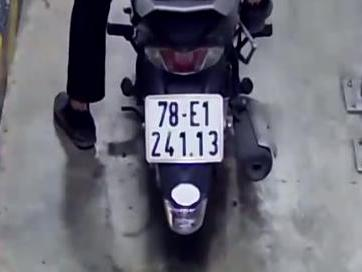num_plate: (145, 95, 224, 164)
